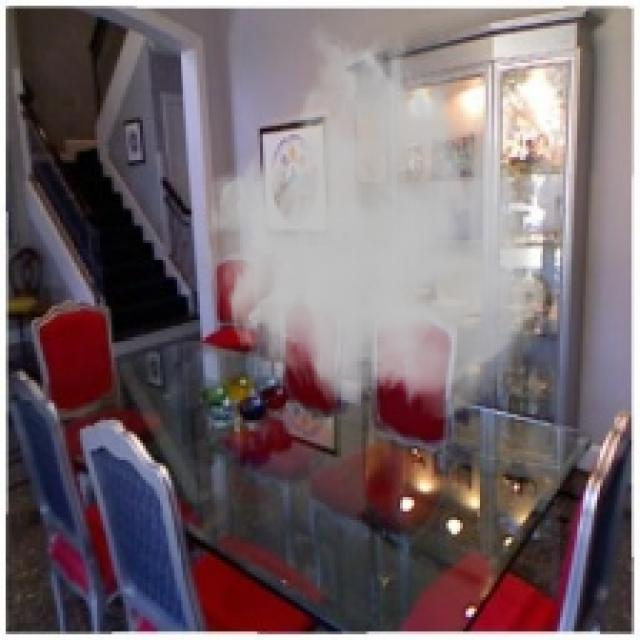smoke: (203, 20, 546, 423)
